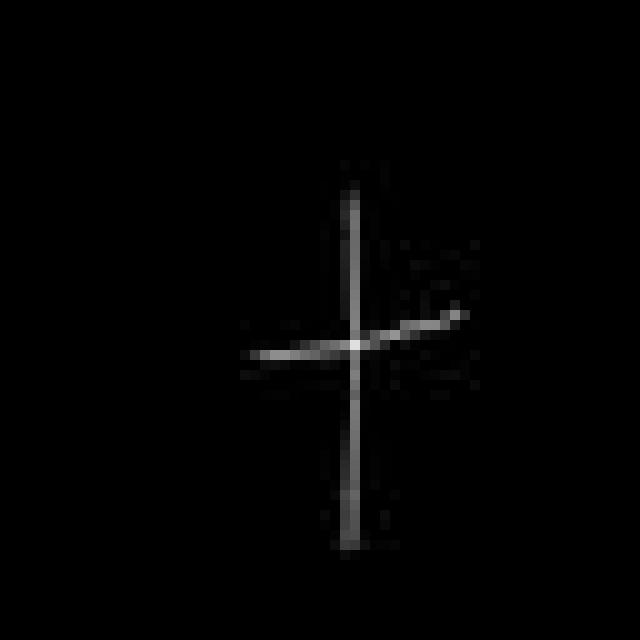10 -ten-: (245, 180, 471, 559)
